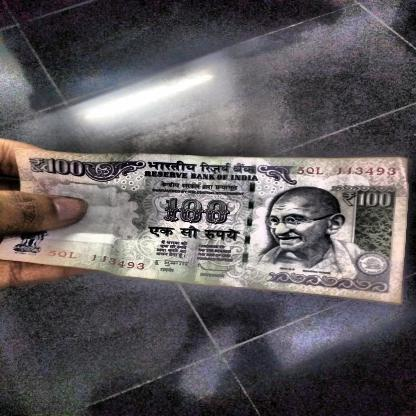Rs100: (161, 193, 235, 226), (26, 154, 91, 180), (341, 189, 397, 208)
